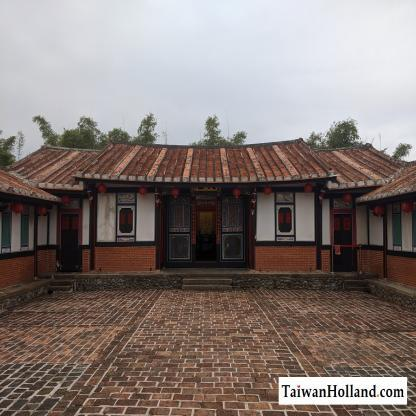Building Outline: (0, 138, 416, 313)
Deco: (276, 192, 295, 242), (117, 192, 135, 242), (333, 198, 353, 210), (61, 198, 80, 209)
Dont: (401, 199, 414, 215), (11, 201, 23, 216), (374, 204, 385, 217), (37, 205, 47, 217), (342, 193, 352, 204), (304, 183, 313, 194), (263, 185, 272, 196), (232, 187, 241, 198), (171, 187, 180, 198), (62, 194, 70, 205), (139, 186, 147, 196), (98, 184, 106, 194)
Door: (196, 206, 216, 263), (334, 214, 353, 273), (61, 214, 78, 272)
Door Hole: (161, 195, 250, 271)
Facade: (0, 181, 416, 290)
Ground Floor: (47, 181, 369, 290)
Roof: (0, 138, 416, 204)
Window: (2, 214, 11, 246), (393, 214, 401, 245), (21, 216, 28, 245)
